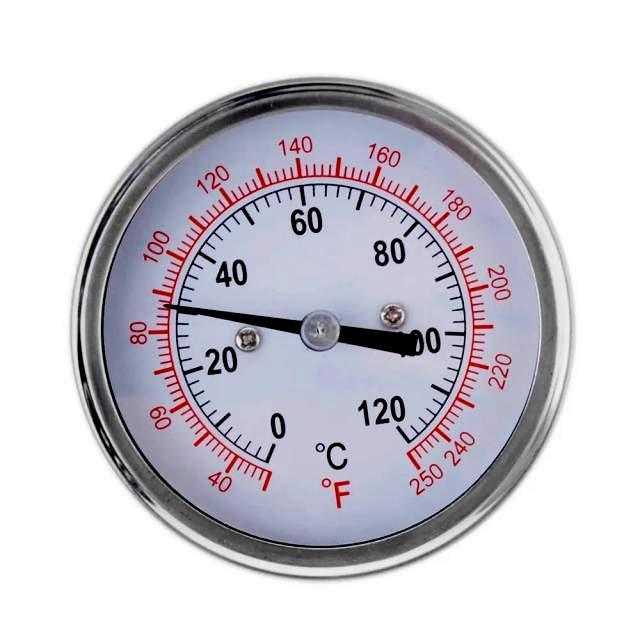Needle_Tip: (145, 286, 211, 329)
Needle_base: (294, 300, 348, 365)
max_value: (347, 389, 450, 466)
min_value: (265, 396, 300, 472)
